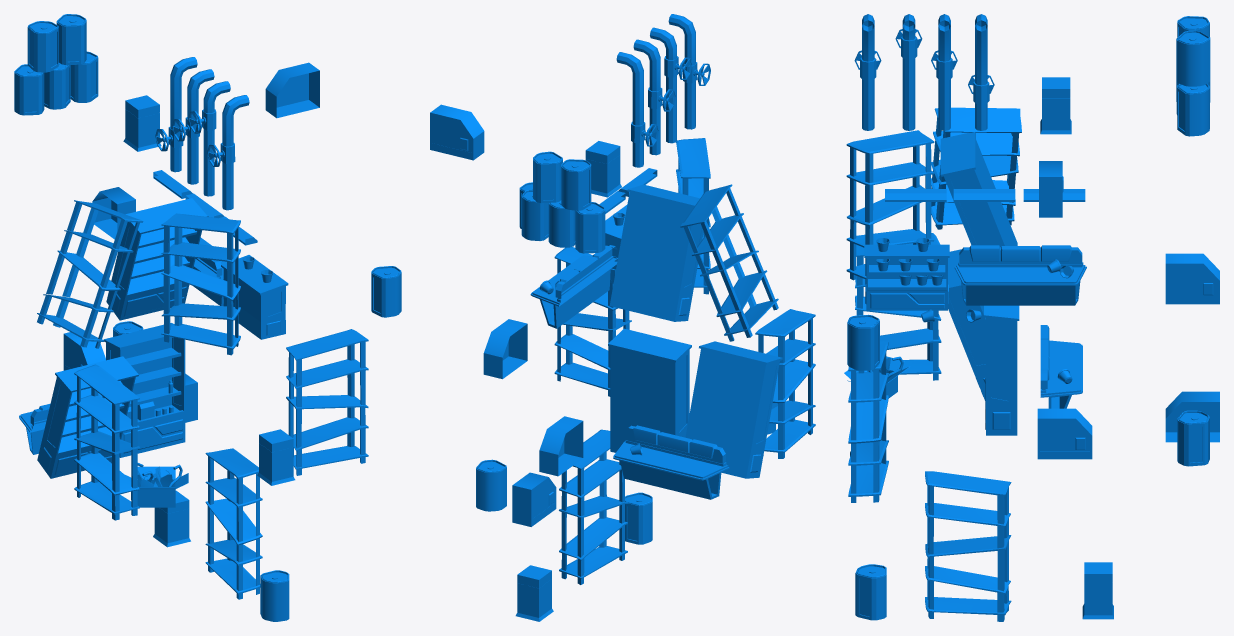
Rendered from Props01.fbx.
3 renders of one model, left to right at view 1: azimuth 30°, elevation 25°; view 2: azimuth 150°, elevation 25°; view 3: azimuth 270°, elevation 25°, orthographic. The views are drawn at different scales.
Parts seen in each view (by area): view 1: Anaquel013, Anaquel015, Anaquel004, Box053, Box101, Anaquel014, Anaquel016, Box060, Box085, Box110, Box077, Box105 (+18 smaller); view 2: Box101, Box060, Box053, Anaquel014, Anaquel016, Box023, Anaquel004, Anaquel013, Box086, Box110, Anaquel015, Box082 (+16 smaller); view 3: Anaquel014, Box086, Anaquel015, Anaquel016, Anaquel013, Box085, Box101, Box053, Anaquel004, Box082, Box023, Box094 (+18 smaller).
Part boxes in pixels (bbox=[...]): Anaquel013: bbox=[286, 329, 368, 475]; Anaquel015: bbox=[161, 213, 240, 355]; Anaquel004: bbox=[74, 364, 139, 520]; Box053: bbox=[103, 323, 185, 457]; Box101: bbox=[106, 198, 207, 320]; Anaquel014: bbox=[205, 448, 262, 599]; Anaquel016: bbox=[37, 200, 143, 348]; Box060: bbox=[37, 356, 138, 478]; Box085: bbox=[221, 255, 288, 339]; Box110: bbox=[265, 62, 319, 118]; Box077: bbox=[257, 429, 295, 485]; Box105: bbox=[123, 95, 161, 151]; Box101: bbox=[609, 184, 703, 321]; Box060: bbox=[685, 341, 782, 478]; Box053: bbox=[608, 328, 691, 452]; Anaquel014: bbox=[559, 429, 627, 584]; Anaquel016: bbox=[680, 184, 778, 341]; Box023: bbox=[613, 425, 729, 499]; Anaquel004: bbox=[755, 309, 815, 458]; Anaquel013: bbox=[554, 247, 631, 396]; Box086: bbox=[530, 245, 617, 328]; Box110: bbox=[430, 104, 484, 160]; Anaquel015: bbox=[676, 138, 710, 294]; Box082: bbox=[539, 416, 583, 476]; Anaquel014: bbox=[925, 471, 1011, 621]; Box086: bbox=[954, 245, 1086, 305]; Anaquel015: bbox=[846, 130, 934, 284]; Anaquel016: bbox=[931, 107, 1021, 229]; Anaquel013: bbox=[848, 341, 888, 502]; Box085: bbox=[864, 244, 949, 310]; Box101: bbox=[940, 132, 1017, 247]; Box053: bbox=[984, 305, 1019, 435]; Anaquel004: bbox=[855, 233, 941, 380]; Box082: bbox=[1037, 408, 1092, 459]; Box023: bbox=[1040, 325, 1082, 408]; Box094: bbox=[1165, 253, 1219, 304].
Size of the model in its own units: 187 by 320 by 189.
